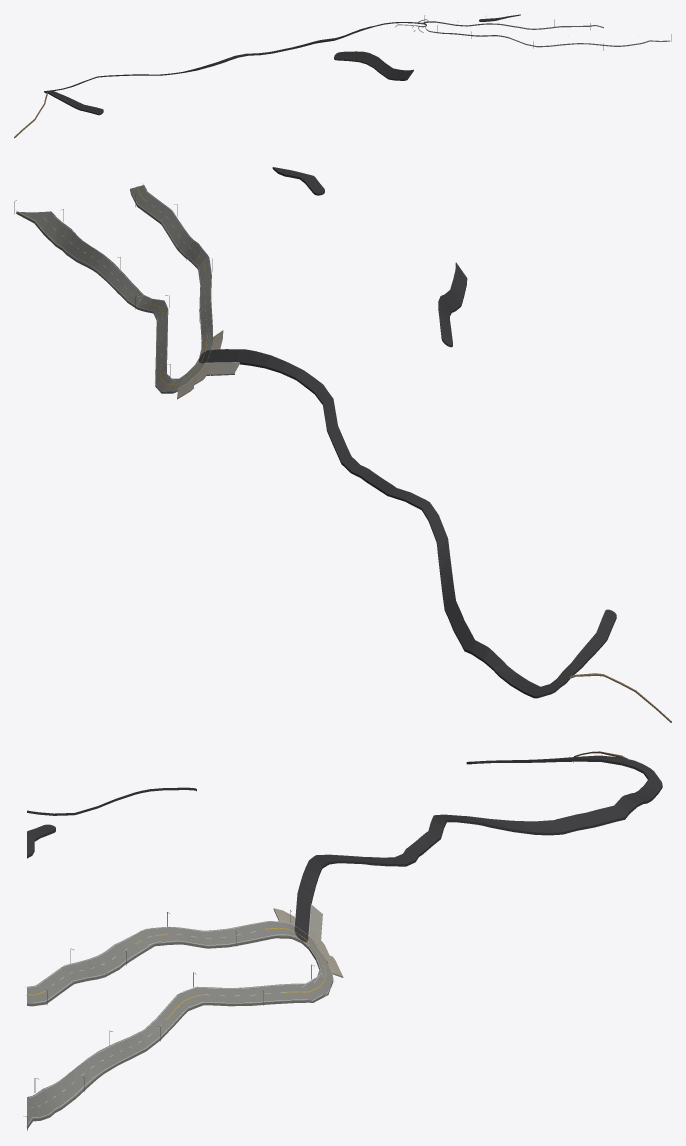
3 views of the same model, one above another, from view 1: azimuth 30°, elevation 25°; view 2: azimuth 150°, elevation 25°; view 3: azimuth 270°, elevation 25° (orthographic). The views are drawn at different scales.
Bounding box in the file's own units: 550 × 136 × 293.
